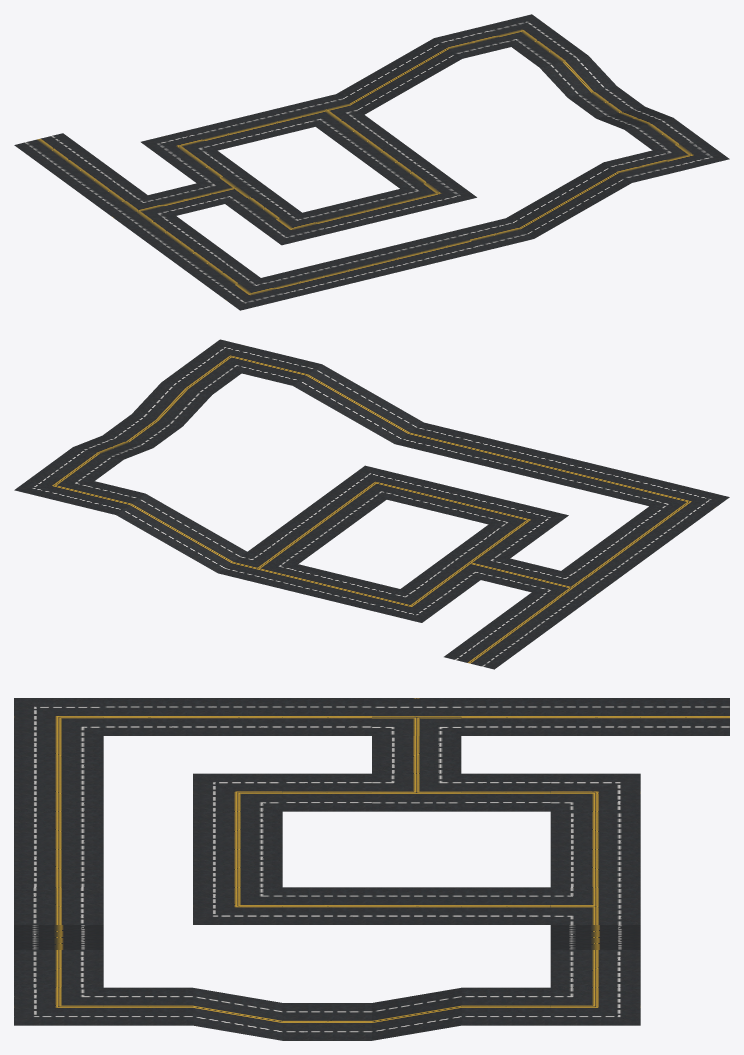
Rendered from ai_testlevel.obj.
3 views of the same model, one above another, from view 1: azimuth 30°, elevation 25°; view 2: azimuth 150°, elevation 25°; view 3: azimuth 270°, elevation 25° (orthographic). The views are drawn at different scales.
Visible parts, largest first — view 1: ROAD_Plane.001; view 2: ROAD_Plane.001; view 3: ROAD_Plane.001.
Part boxes in pixels (left/top/right/bottom): ROAD_Plane.001: left=14, top=14, right=729, bottom=310; ROAD_Plane.001: left=14, top=339, right=729, bottom=669; ROAD_Plane.001: left=14, top=698, right=729, bottom=1040.
Size of the model in its own units: 160 by 10.02 by 128.
3 materials, 3 textured.
